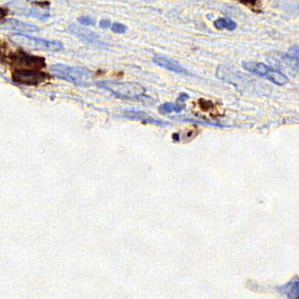Lymphocyte: (195, 93, 219, 115)
